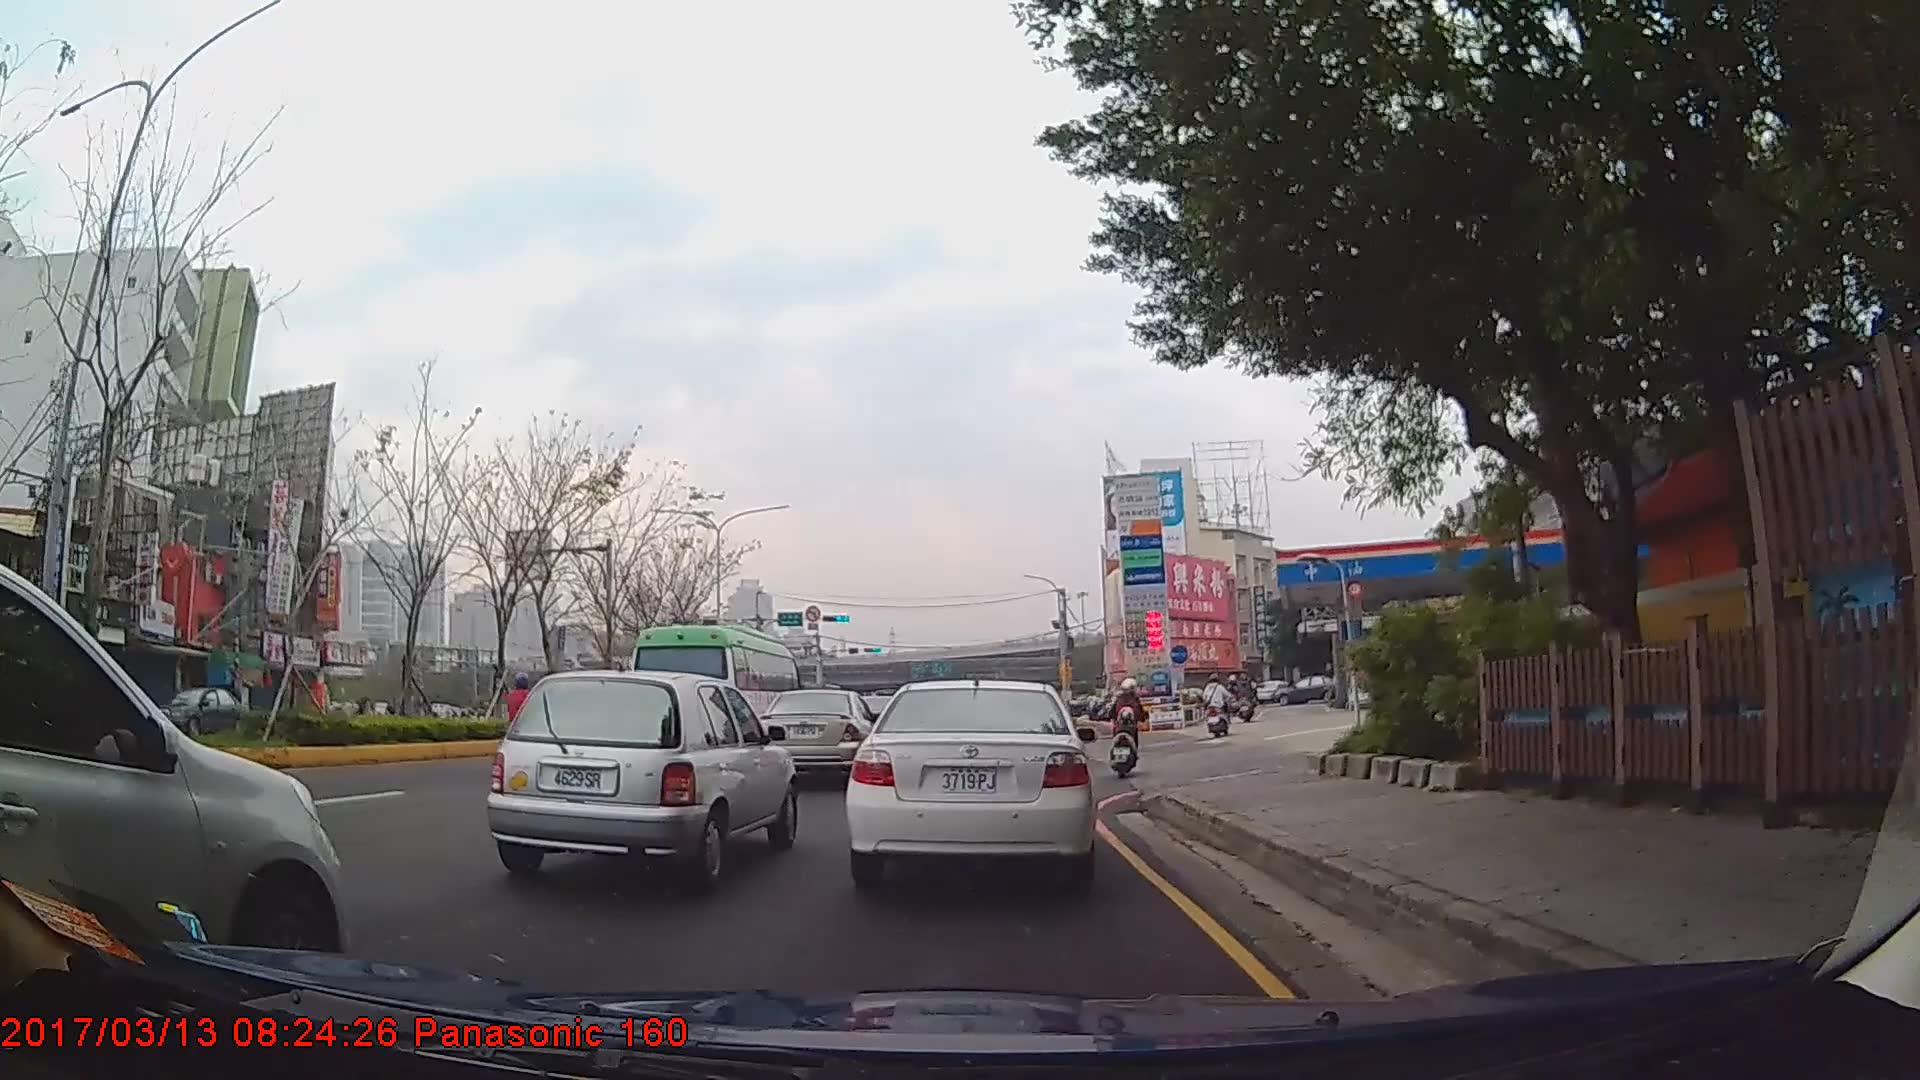rider: (507, 673, 541, 783), (1110, 677, 1145, 772), (1202, 670, 1231, 736)
vehicle: (0, 562, 343, 995), (489, 666, 800, 886), (842, 674, 1093, 885), (624, 620, 800, 766), (754, 689, 881, 782), (146, 681, 250, 736), (1271, 674, 1341, 704)
